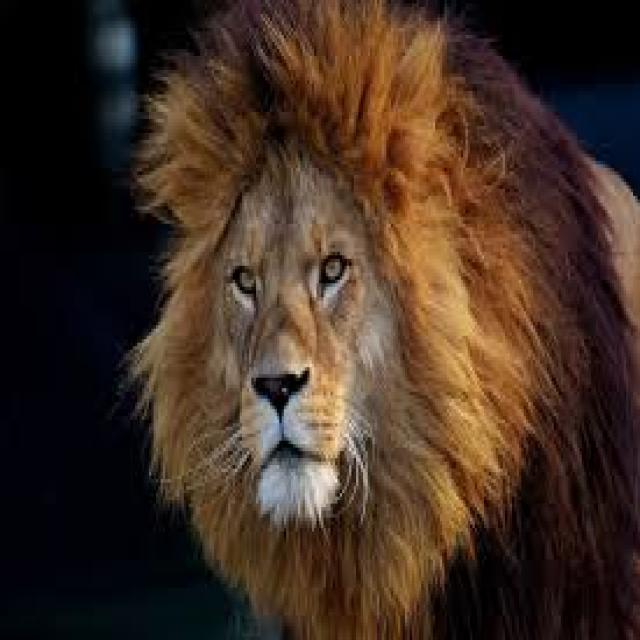Lion: (118, 0, 638, 637)
